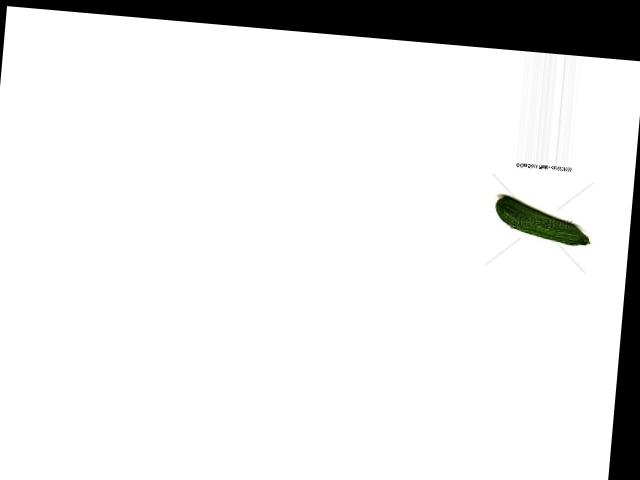cucumber: (494, 195, 594, 246)
